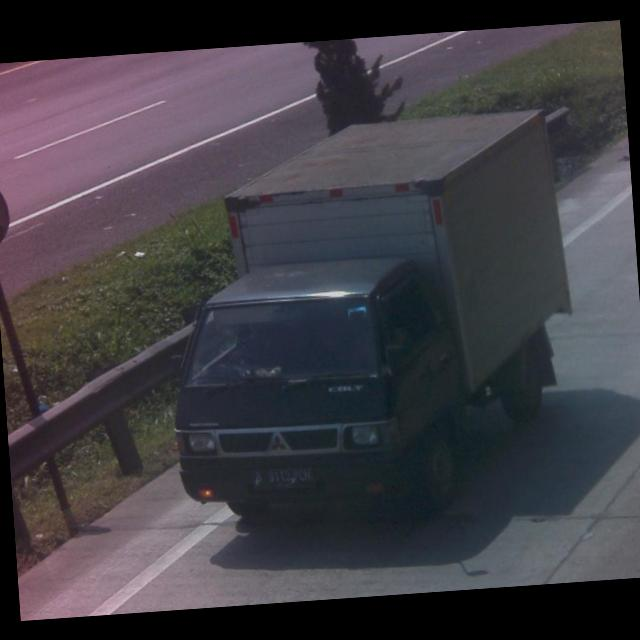plate: (252, 466, 315, 490)
